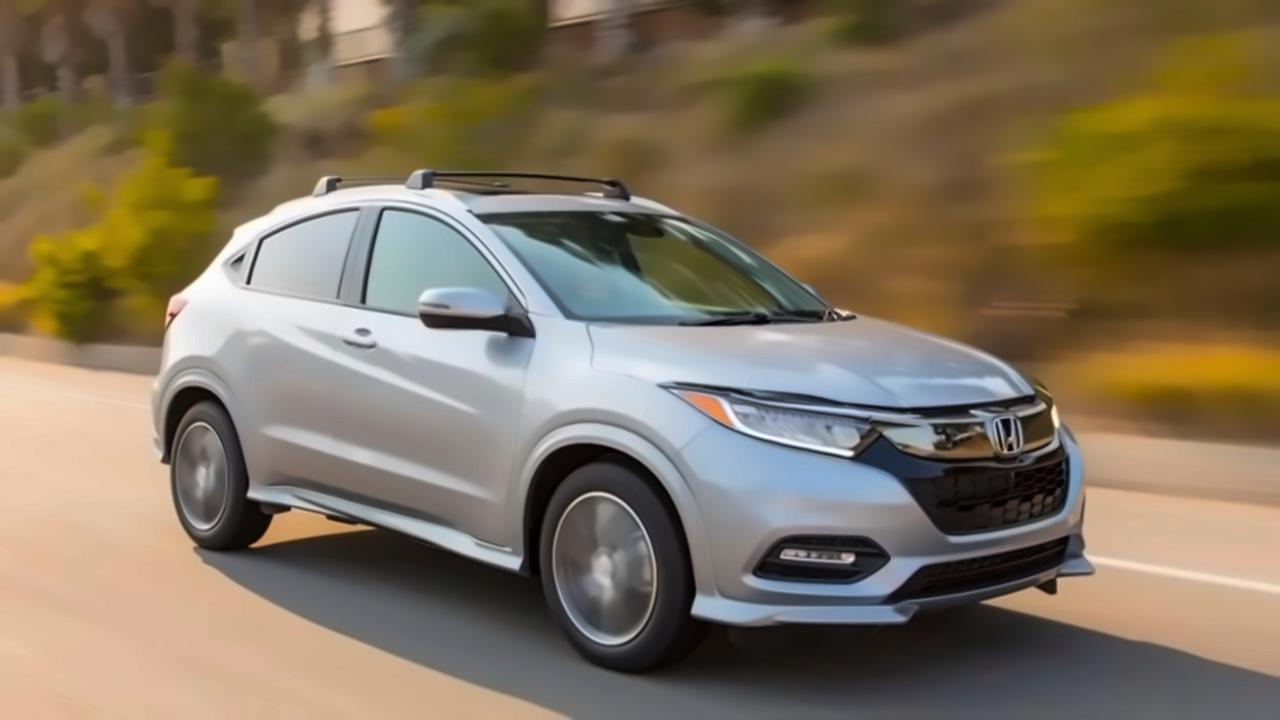Car hood: (580, 316, 1041, 413)
Driver-s door - -F-R-: (346, 180, 532, 551)
Fender - -F-R-: (506, 308, 715, 576)
Fender - -R-R-: (159, 277, 259, 422)
Headlight - -R-: (656, 372, 888, 464)
Passenger-s door - -R-R-: (204, 176, 348, 495)
Rear bumper: (668, 453, 1110, 636), (134, 358, 186, 473)
Rear light - -R-: (146, 280, 195, 335)
Side bumper - -R-: (232, 467, 548, 580)
Side mirror - -R-: (400, 277, 541, 348)
